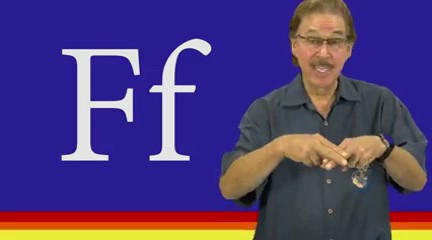F: (280, 131, 382, 172)
